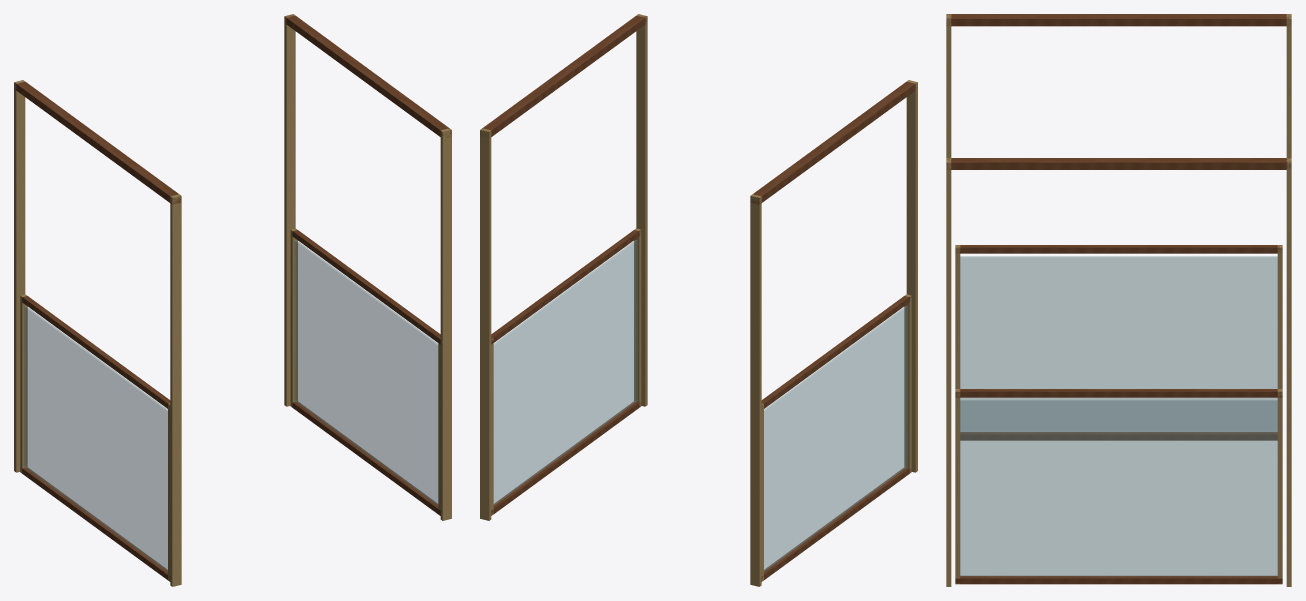
The model's file is ForwardCrossing.glb.
3 views of the same model, side by side, from view 1: azimuth 30°, elevation 25°; view 2: azimuth 150°, elevation 25°; view 3: azimuth 270°, elevation 25° (orthographic). The views are drawn at different scales.
Parts seen in each view (by area): view 1: Crossing_East_MovingGlass, Crossing_West_MovingGlass, Crossing_West_FixedPost_South, Crossing_East_FixedPost_South, Crossing_East_FixedPost_North, Crossing_West_FixedPost_North, Crossing_West_FixedHeader, Crossing_East_FixedHeader, Crossing_East_MovingRail_Top, Crossing_West_MovingRail_Top, Crossing_East_MovingRail_Bottom, Crossing_West_MovingRail_Bottom (+2 smaller); view 2: Crossing_East_MovingGlass, Crossing_West_MovingGlass, Crossing_West_FixedPost_North, Crossing_East_FixedPost_North, Crossing_West_FixedPost_South, Crossing_East_FixedPost_South, Crossing_West_FixedHeader, Crossing_East_FixedHeader, Crossing_East_MovingRail_Top, Crossing_West_MovingRail_Top, Crossing_East_MovingRail_Bottom, Crossing_West_MovingRail_Bottom (+2 smaller); view 3: Crossing_East_MovingGlass, Crossing_West_MovingGlass, Crossing_West_FixedHeader, Crossing_East_FixedHeader, Crossing_East_MovingRail_Bottom, Crossing_East_MovingRail_Top, Crossing_West_MovingRail_Top, Crossing_West_MovingRail_Bottom, Crossing_East_FixedPost_South, Crossing_East_FixedPost_North, Crossing_East_MovingStile_South, Crossing_East_MovingStile_North (+4 smaller).
Boxes of the visible parts, bbox=[...] form: Crossing_East_MovingGlass: bbox=[294, 240, 438, 505]; Crossing_West_MovingGlass: bbox=[24, 306, 167, 571]; Crossing_West_FixedPost_South: bbox=[170, 194, 181, 586]; Crossing_East_FixedPost_South: bbox=[440, 128, 451, 520]; Crossing_East_FixedPost_North: bbox=[284, 14, 295, 406]; Crossing_West_FixedPost_North: bbox=[14, 80, 25, 472]; Crossing_West_FixedHeader: bbox=[14, 81, 181, 204]; Crossing_East_FixedHeader: bbox=[284, 14, 451, 137]; Crossing_East_MovingRail_Top: bbox=[291, 229, 440, 344]; Crossing_West_MovingRail_Top: bbox=[21, 295, 170, 408]; Crossing_East_MovingRail_Bottom: bbox=[292, 401, 440, 515]; Crossing_West_MovingRail_Bottom: bbox=[20, 467, 170, 581]; Crossing_East_MovingGlass: bbox=[493, 240, 637, 505]; Crossing_West_MovingGlass: bbox=[764, 306, 907, 571]; Crossing_West_FixedPost_North: bbox=[750, 194, 761, 586]; Crossing_East_FixedPost_North: bbox=[480, 128, 491, 520]; Crossing_West_FixedPost_South: bbox=[906, 80, 917, 472]; Crossing_East_FixedPost_South: bbox=[636, 14, 647, 406]; Crossing_West_FixedHeader: bbox=[750, 81, 915, 204]; Crossing_East_FixedHeader: bbox=[480, 14, 647, 137]; Crossing_East_MovingRail_Top: bbox=[491, 228, 641, 344]; Crossing_West_MovingRail_Top: bbox=[761, 295, 911, 408]; Crossing_East_MovingRail_Bottom: bbox=[491, 401, 640, 514]; Crossing_West_MovingRail_Bottom: bbox=[761, 467, 911, 581]; Crossing_East_MovingGlass: bbox=[960, 400, 1277, 576]; Crossing_West_MovingGlass: bbox=[960, 256, 1277, 431]; Crossing_West_FixedHeader: bbox=[946, 14, 1290, 26]; Crossing_East_FixedHeader: bbox=[946, 158, 1290, 169]; Crossing_East_MovingRail_Bottom: bbox=[955, 575, 1282, 584]; Crossing_East_MovingRail_Top: bbox=[955, 389, 1282, 397]; Crossing_West_MovingRail_Top: bbox=[955, 245, 1282, 253]; Crossing_West_MovingRail_Bottom: bbox=[960, 432, 1277, 440]; Crossing_East_FixedPost_South: bbox=[946, 158, 951, 586]; Crossing_East_FixedPost_North: bbox=[1286, 158, 1291, 586]; Crossing_East_MovingStile_South: bbox=[955, 389, 960, 584]; Crossing_East_MovingStile_North: bbox=[1277, 389, 1282, 584].
Bounding box in the file's own units: 4.3 × 5.72 × 4.22.
3 materials, 2 textured.
